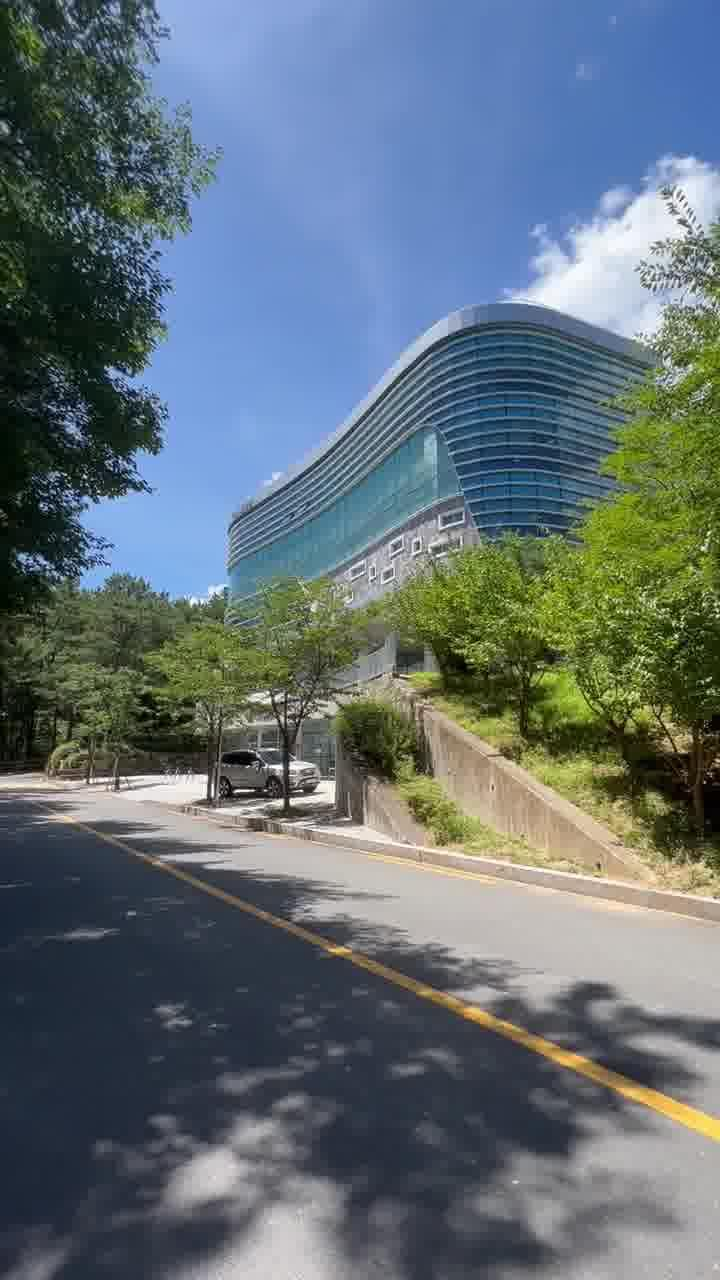building: (200, 298, 588, 560)
